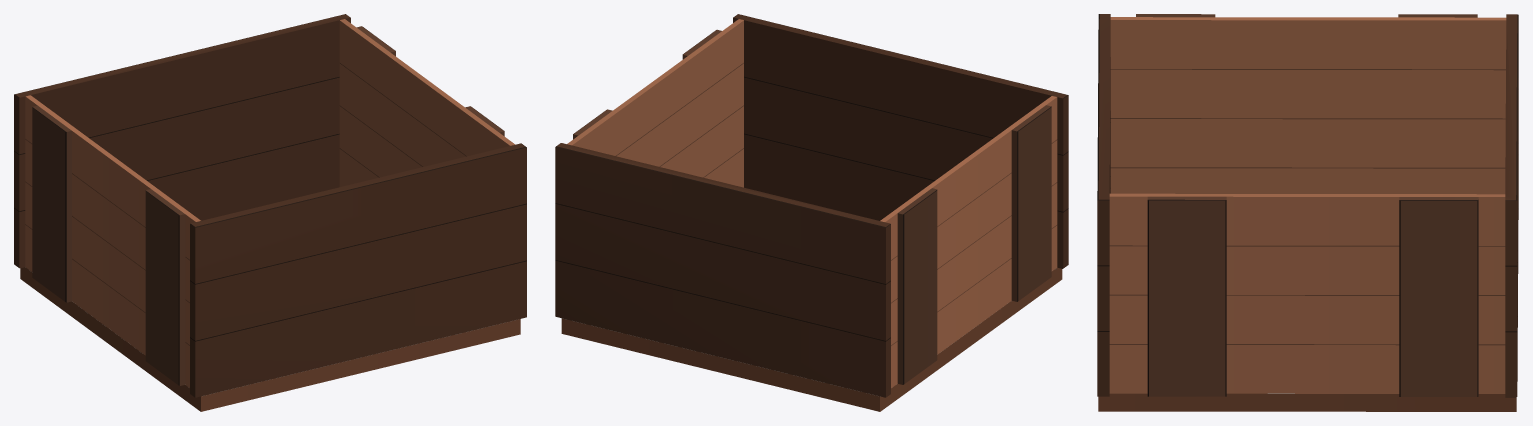
File: Med Wide Crate w_Lid Open#1.fbx
The picture shows the model from 3 angles, left to right: view 1: azimuth 30°, elevation 25°; view 2: azimuth 150°, elevation 25°; view 3: azimuth 270°, elevation 25°; orthographic projection. The views are drawn at different scales.
Visible parts, largest first — view 1: Wide Colored Crate #1; view 2: Wide Colored Crate #1; view 3: Wide Colored Crate #1.
Part boxes in pixels (x1,y1,x2,y2): Wide Colored Crate #1: [14, 14, 526, 411]; Wide Colored Crate #1: [555, 14, 1068, 411]; Wide Colored Crate #1: [1097, 14, 1518, 411].
Size of the model in its own units: 173 by 308 by 323.
Materials: 1 (1 with a texture image).
